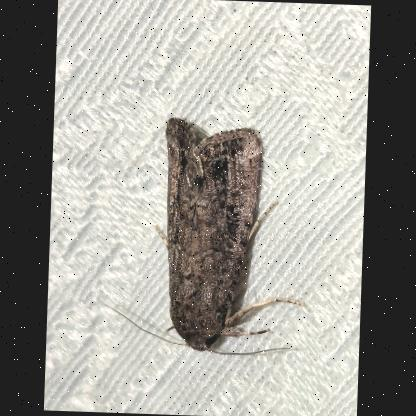Fall Armyworm Moth: (100, 113, 320, 361)
